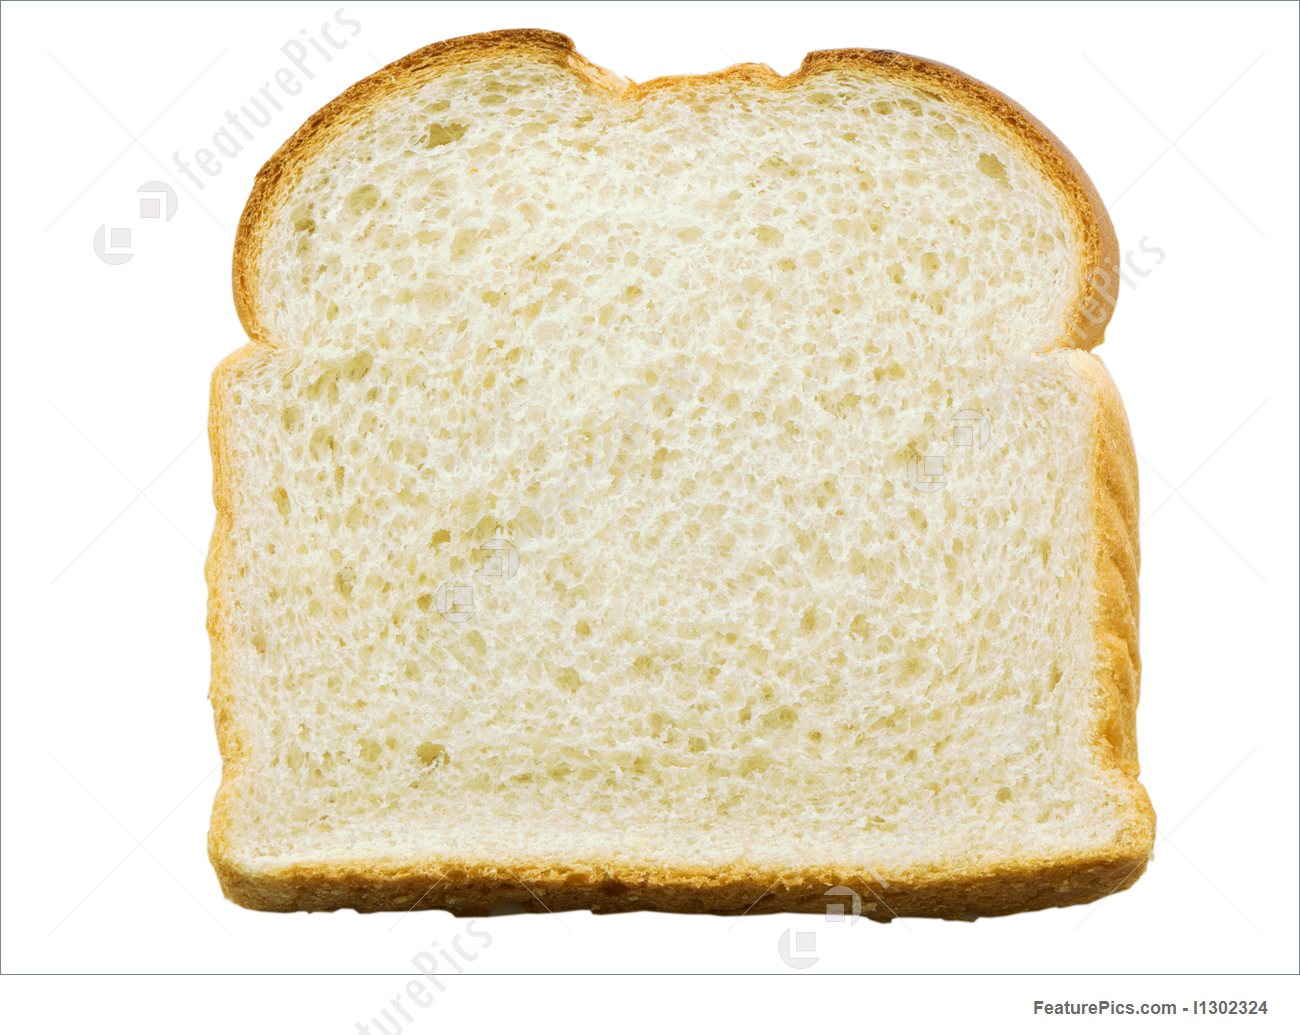slice of bread: (212, 36, 1163, 916)
